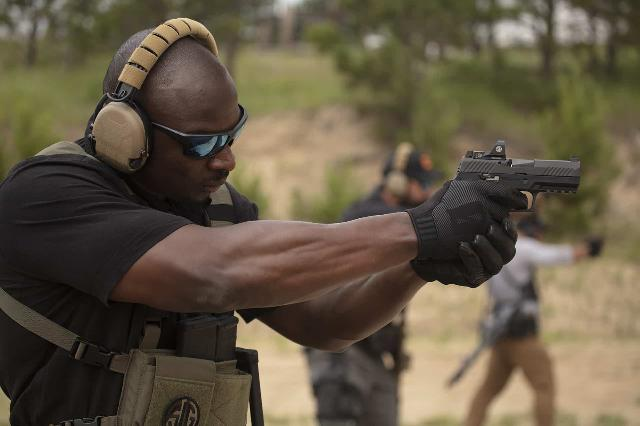handgun: (446, 137, 584, 227)
